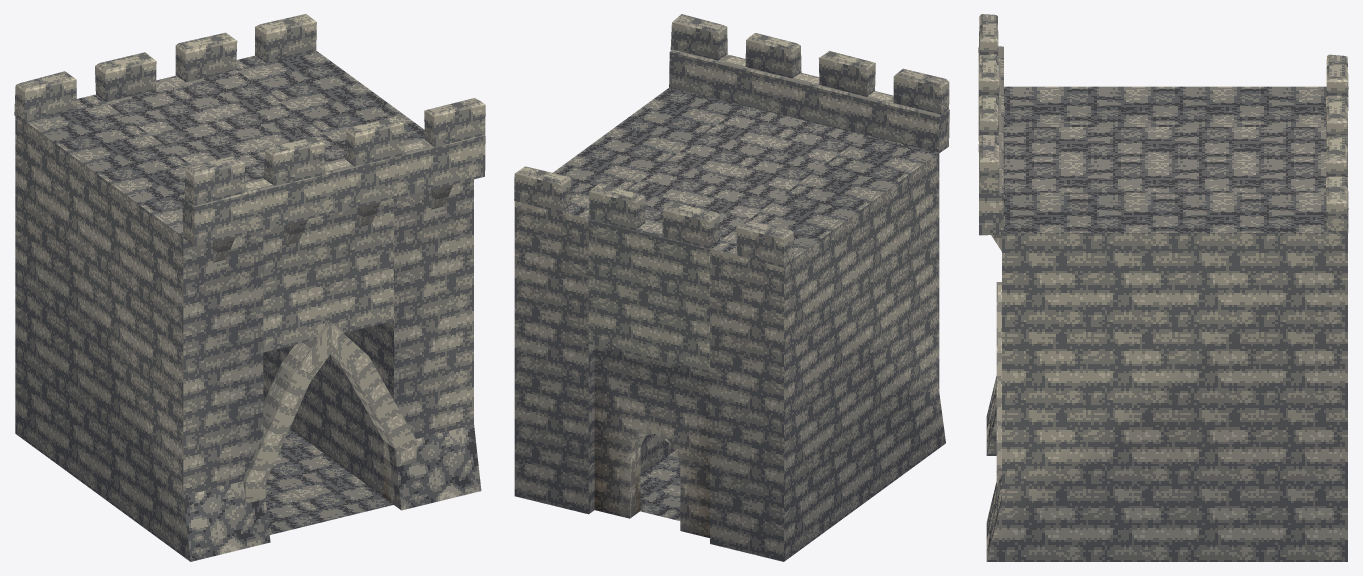
File: cst.gatehouse__deep.glb
3 renders of one model, left to right at view 1: azimuth 30°, elevation 25°; view 2: azimuth 150°, elevation 25°; view 3: azimuth 270°, elevation 25°, orthographic. The views are drawn at different scales.
Parts seen in each view (by area): view 1: kit_block, kit_top, kit_detail, kit_shell_passage_floor; view 2: kit_block, kit_top, kit_shell_passage_floor, kit_detail; view 3: kit_block, kit_top, kit_detail.
Part boxes in pixels (box(x1,y1,x2,y2)): kit_block: box(15, 50, 481, 561); kit_top: box(14, 14, 485, 246); kit_detail: box(213, 184, 453, 505); kit_shell_passage_floor: box(265, 428, 393, 534); kit_block: box(514, 87, 945, 561); kit_top: box(514, 14, 949, 267); kit_shell_passage_floor: box(640, 451, 680, 520); kit_detail: box(620, 422, 690, 529); kit_block: box(986, 86, 1347, 561); kit_top: box(978, 14, 1348, 235); kit_detail: box(991, 235, 1001, 489).
Bounding box in the file's own units: 8.04 × 10.3 × 8.56.
Materials: 5 (5 with a texture image).
